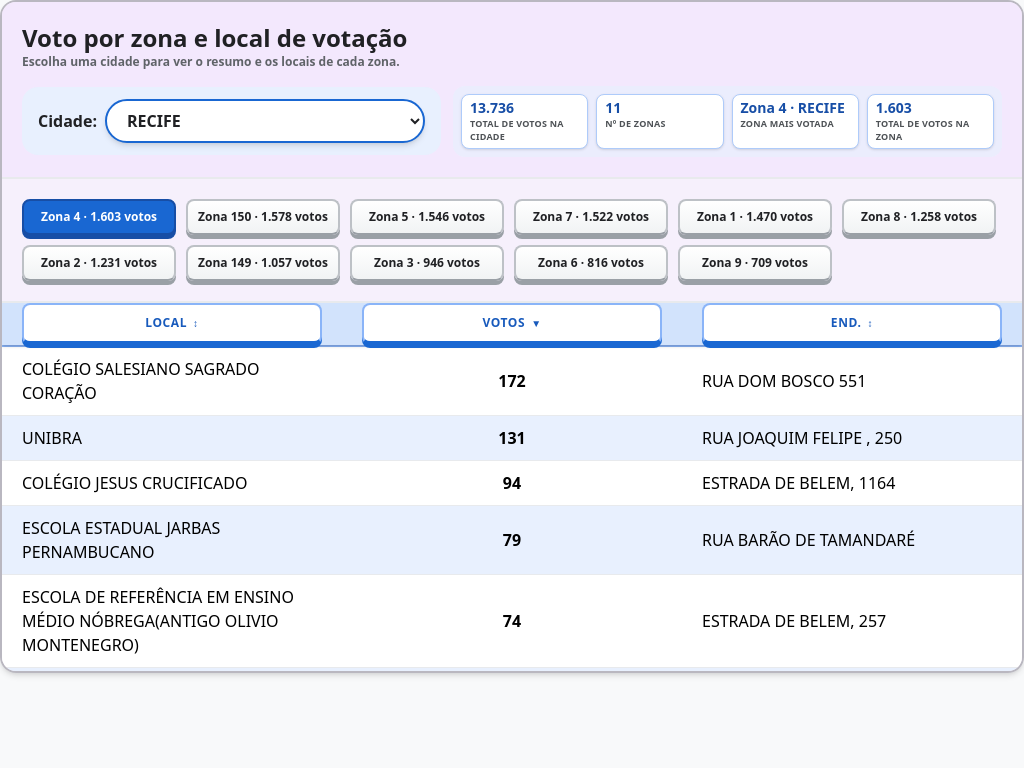
Test case: TabelaZonas › volta ao topo da lista ao trocar de zona
Click the button "Zona 150 · 1.578 votos": (263,216) [186,198,340,234]
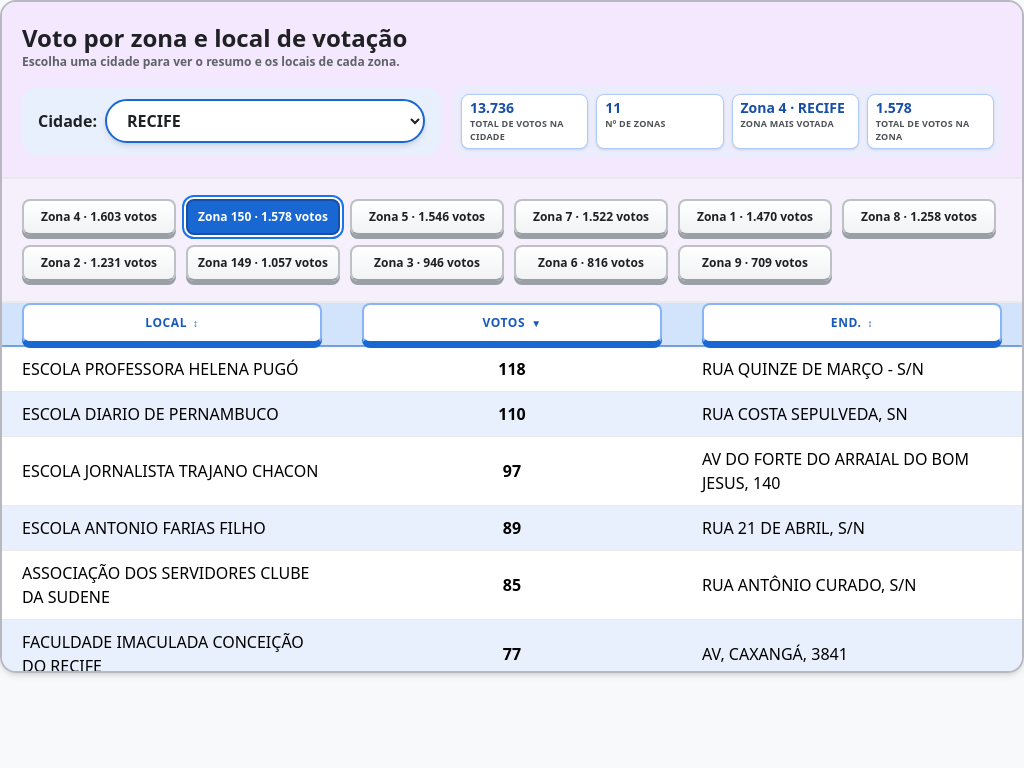
Expected: the cell "ESCOLA PROFESSORA HELENA PUGÓ" is shown, [2,346,342,391]
